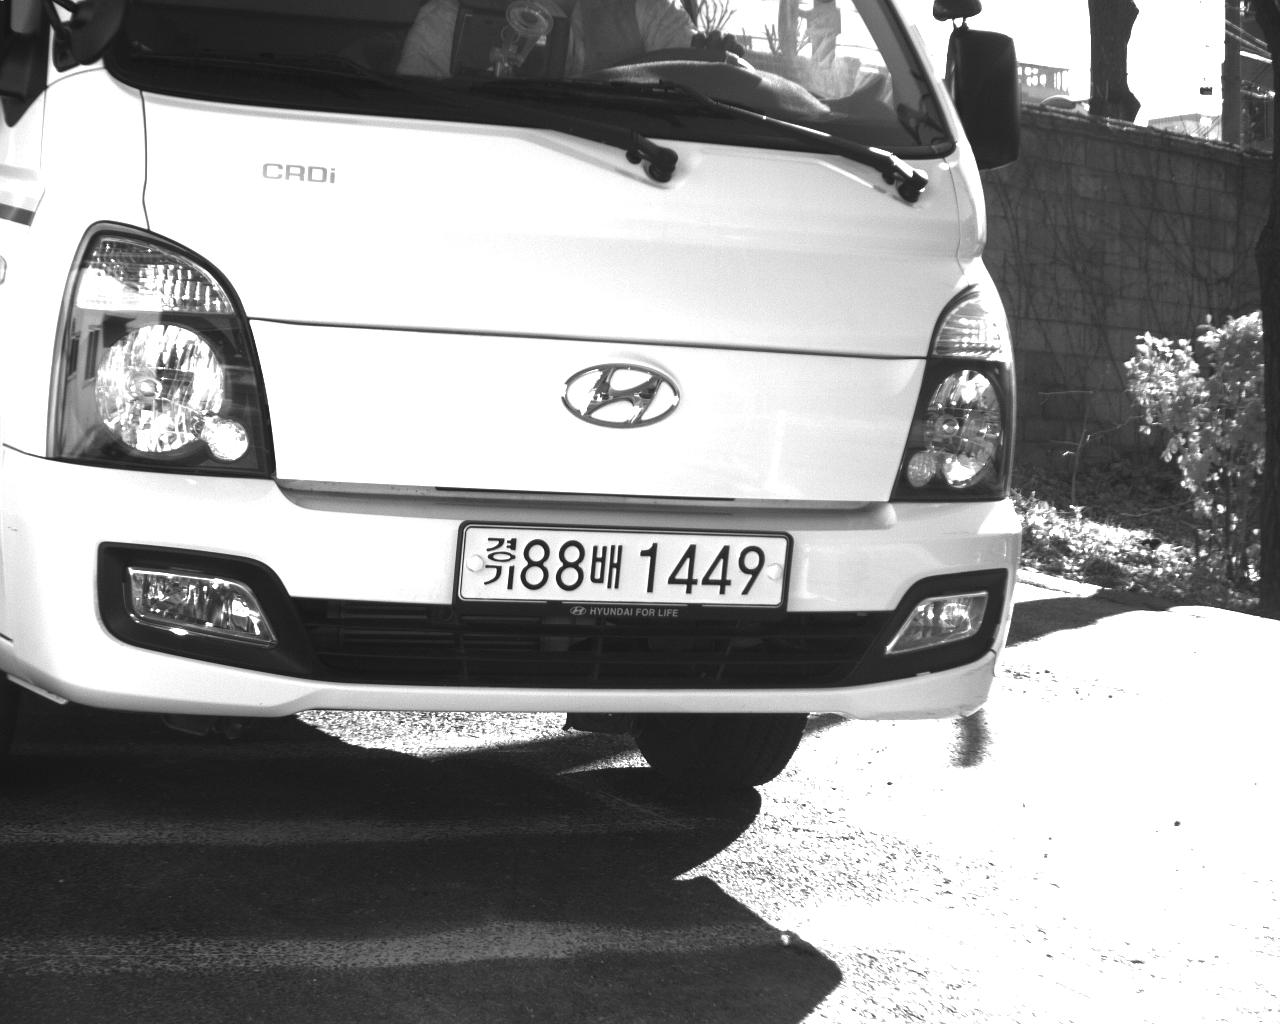P4_경기88배1449: (450, 517, 795, 621)
경기: (479, 532, 520, 594)
배: (590, 540, 625, 594)
